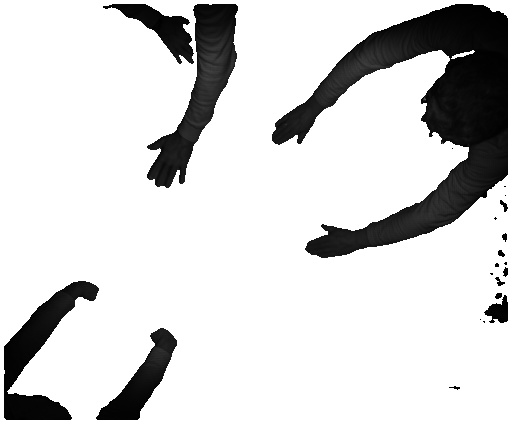fist: (151, 328, 183, 352), (78, 280, 103, 304)
hand: (144, 137, 194, 191), (150, 17, 198, 65), (272, 103, 318, 151), (304, 224, 358, 263)
